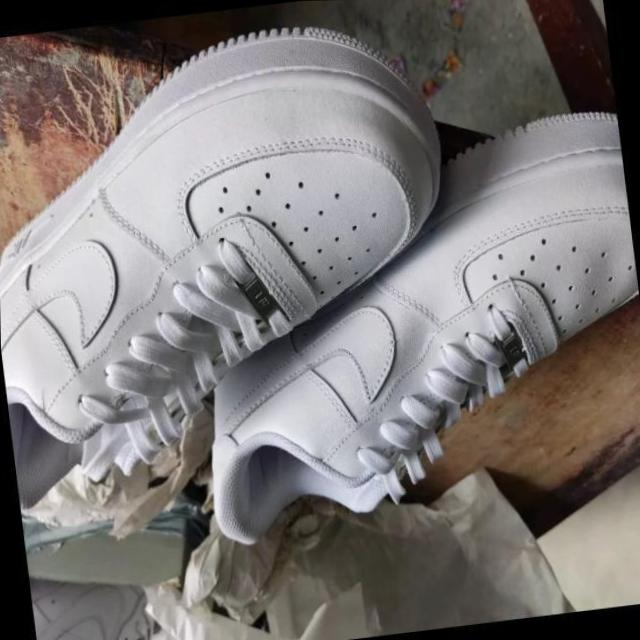nike_fake_airforce: (0, 6, 477, 508), (166, 103, 640, 548)
